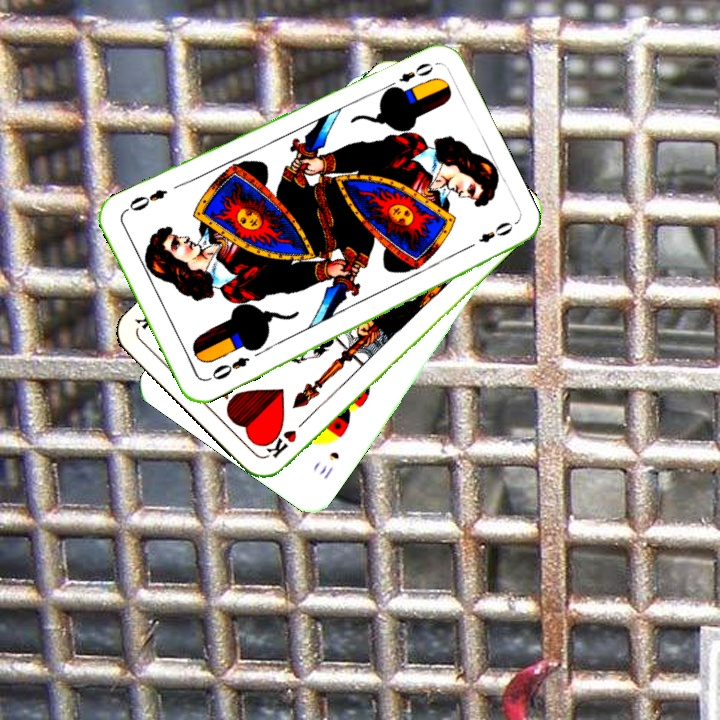EO: (382, 58, 436, 93), (203, 352, 252, 384)
HK: (262, 413, 312, 461)
S10: (315, 447, 342, 482)
